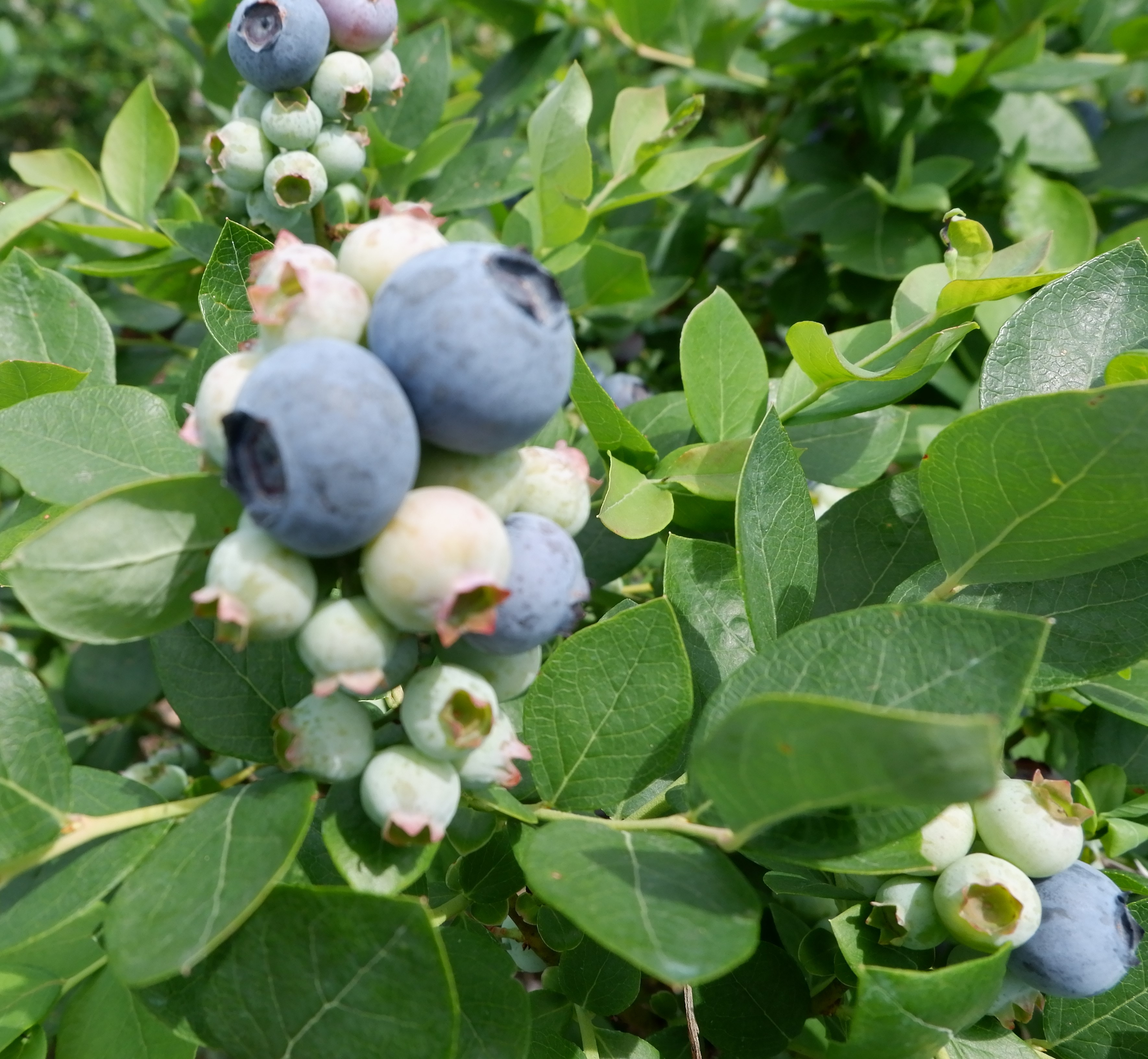Immature: (362, 488, 505, 627), (199, 524, 313, 643), (977, 776, 1083, 879), (296, 598, 397, 696), (939, 857, 1042, 951), (337, 203, 441, 296), (360, 748, 456, 842), (250, 268, 366, 345), (403, 666, 494, 762), (274, 695, 371, 780), (417, 443, 526, 514), (190, 349, 254, 461), (519, 444, 593, 532), (869, 874, 948, 946), (440, 642, 539, 699), (456, 709, 525, 790), (210, 119, 275, 188), (249, 237, 331, 287), (366, 628, 421, 699), (312, 53, 370, 119), (324, 1, 396, 53), (262, 89, 320, 148), (265, 151, 325, 207), (924, 805, 975, 870), (311, 124, 365, 182), (250, 185, 305, 225), (365, 50, 402, 102), (235, 84, 267, 118)
Mature: (370, 245, 569, 450), (221, 337, 410, 552), (468, 515, 591, 652), (1013, 866, 1137, 995), (229, 3, 326, 88)
